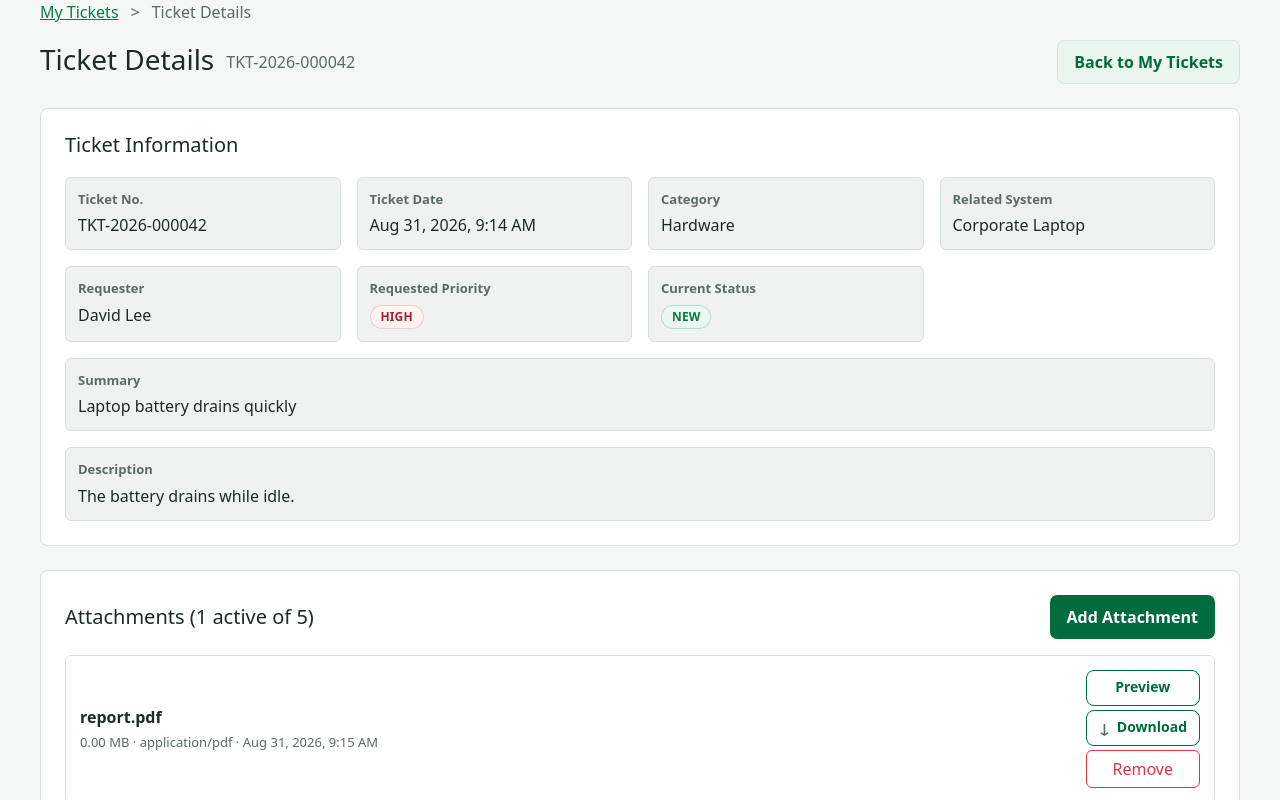
RequesterTicketDetail › requires a valid reason before confirming soft removal
Expected: the heading "Ticket Details" is shown, top-left (40, 43), bottom-right (214, 77)
Click the button "Remove" at (1143, 769), box top-left (1086, 750), bottom-right (1200, 788)
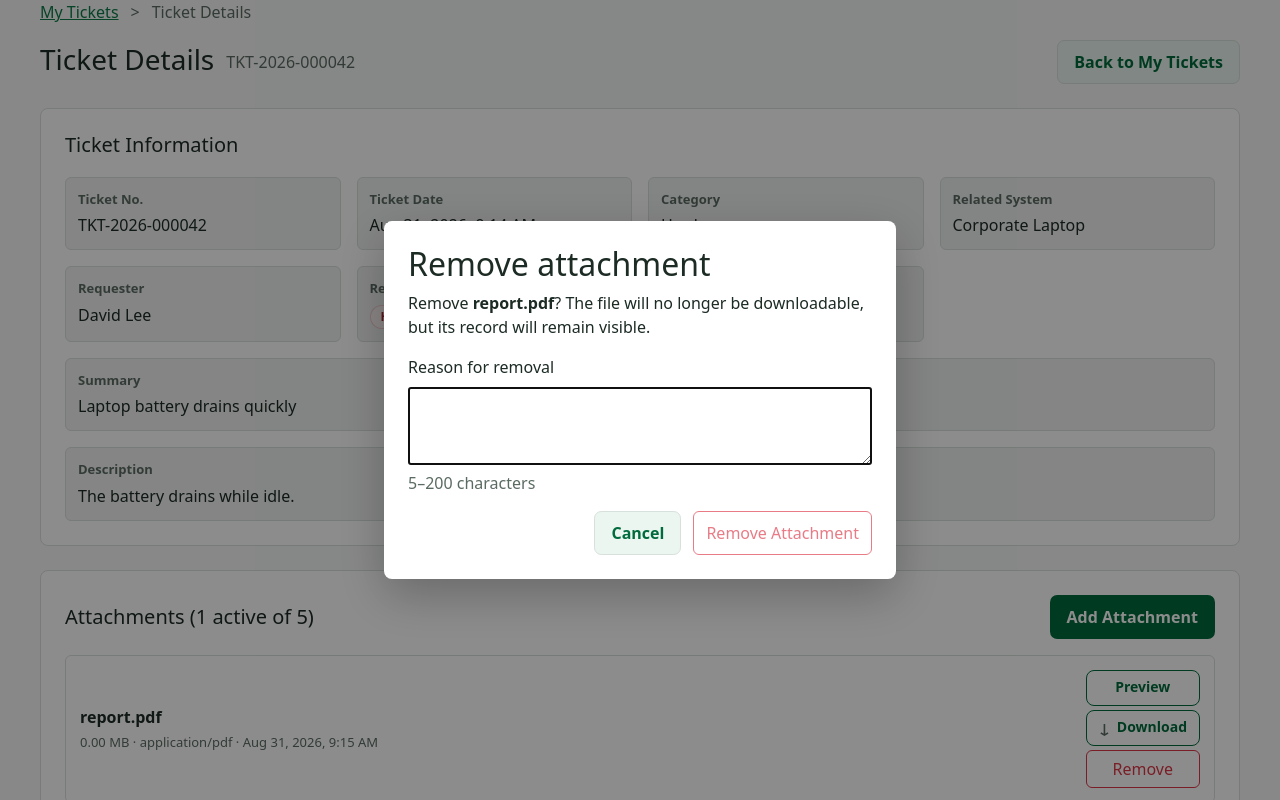
Expected: the dialog "Remove attachment" is shown, top-left (384, 221), bottom-right (896, 579)
Expected: the button "Remove Attachment" is disabled, top-left (693, 511), bottom-right (872, 555)
Type "Uploaded the wrong file" into the text box labelled "Reason for removal" at (640, 426), box top-left (408, 387), bottom-right (872, 465)
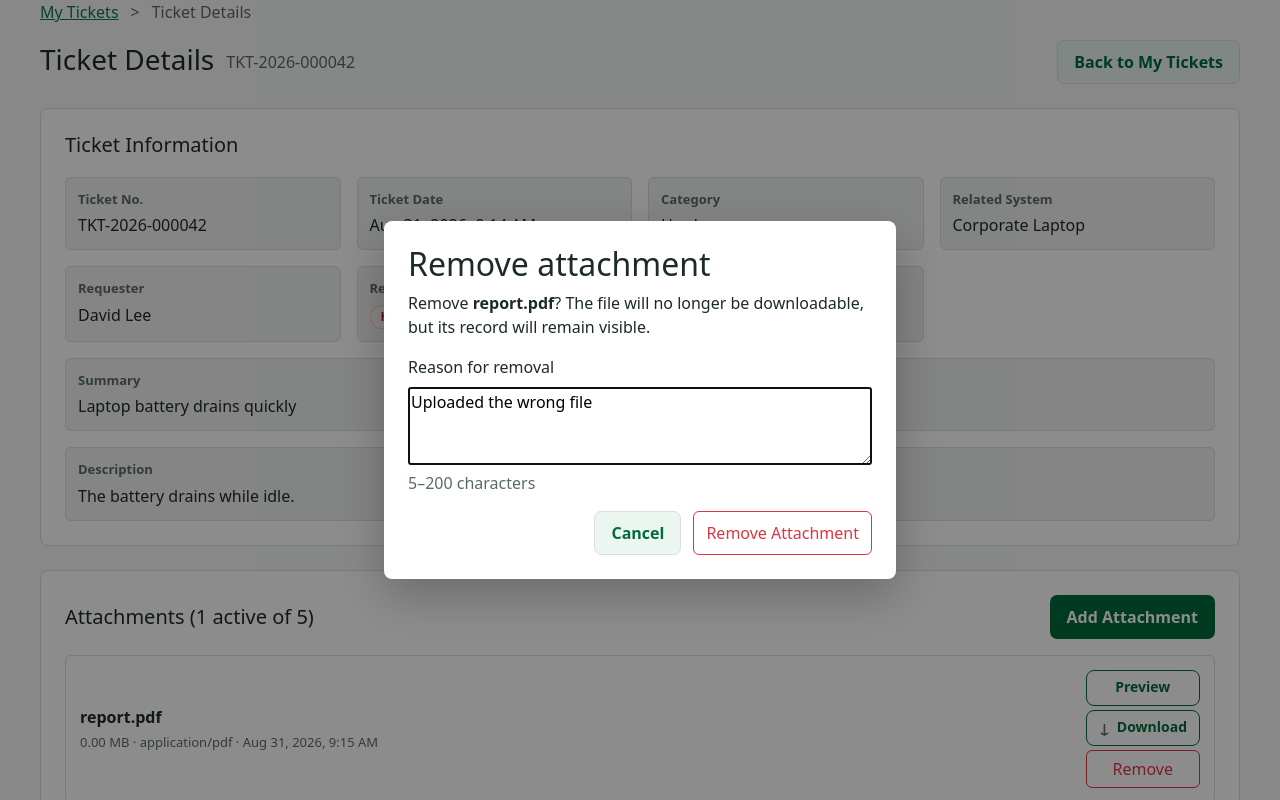
Click the button "Remove Attachment" at (783, 533), box top-left (693, 511), bottom-right (872, 555)
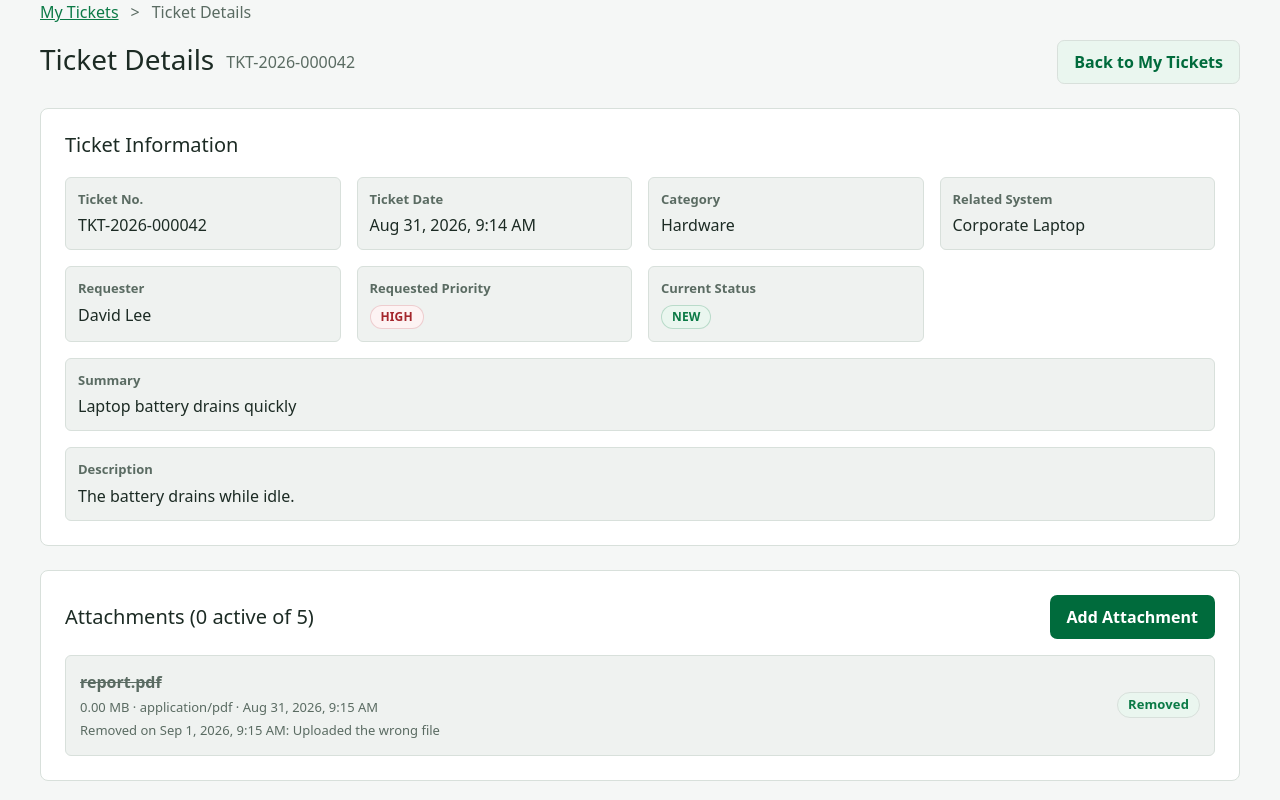
Expected: the text "Removed on Sep 1, 2026, 9:15 AM: Uploaded the wrong file" is shown, top-left (80, 721), bottom-right (440, 739)
